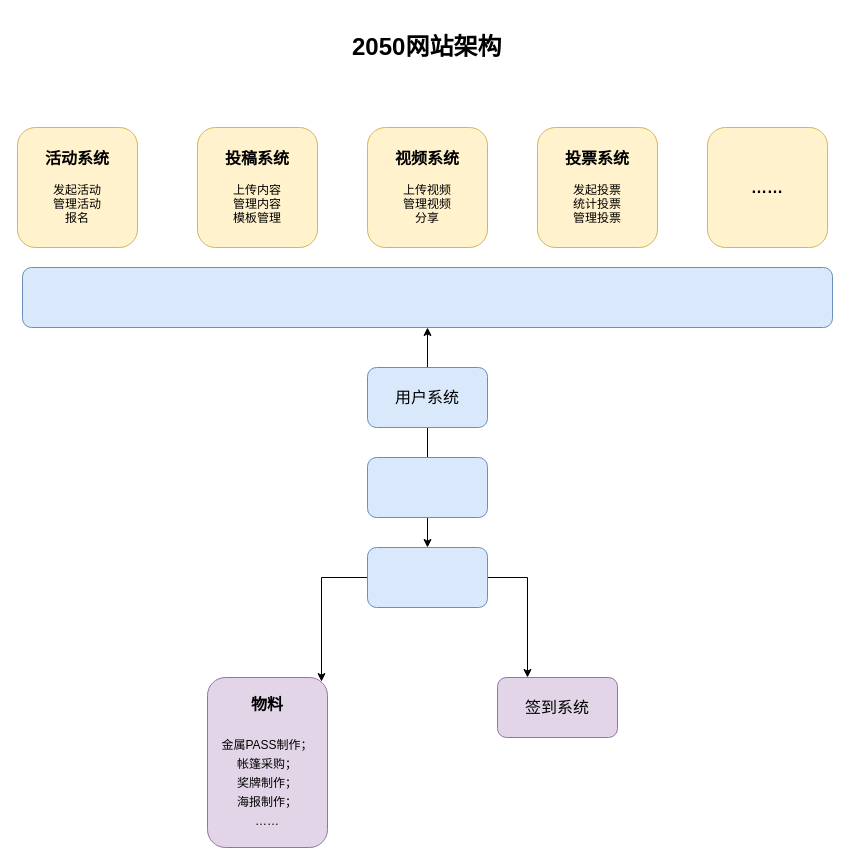
Image size: 850x865. Some labels were removed from this diagram. Here are the shapes that lost their labels. From the top down, the box of each, then its label:
(22, 266, 832, 328): 每个用户在不同系统的不同角色：系统管理员/发起人/召集人/活动参与者/内容贡献者……
(366, 456, 488, 518): PASS系统
(366, 546, 488, 608): 订单系统
